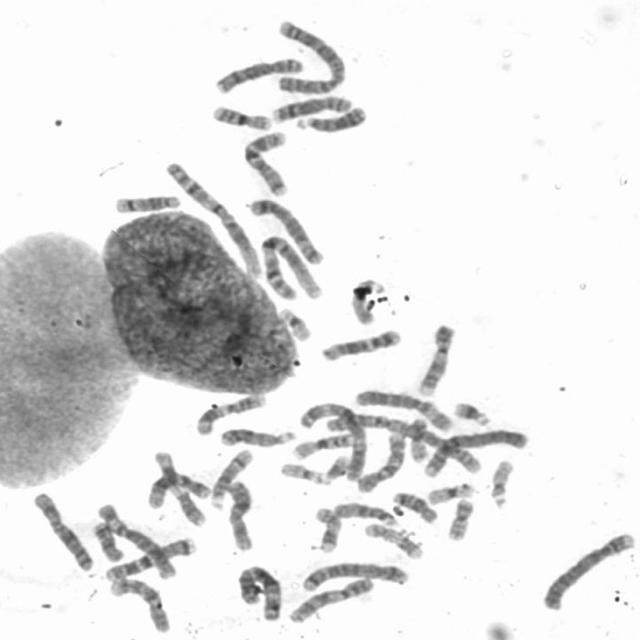A1: (160, 156, 264, 280), (256, 230, 326, 302)
A2: (316, 409, 487, 475), (270, 15, 348, 96)
A3: (294, 396, 369, 483), (233, 561, 284, 623)
B4: (538, 528, 638, 612), (418, 424, 532, 478)
B5: (245, 194, 328, 267), (298, 558, 412, 592)
C10: (105, 571, 175, 634), (353, 429, 408, 494)
C11: (148, 446, 207, 527), (191, 389, 269, 436)
C12: (316, 323, 405, 363), (144, 467, 213, 510)
C6: (91, 498, 180, 580), (352, 384, 456, 433)
C7: (98, 532, 198, 582), (238, 126, 290, 198)
C8: (210, 52, 306, 95), (268, 91, 355, 124)
C9: (284, 572, 376, 626), (413, 318, 459, 397)
D13: (292, 102, 370, 134), (216, 423, 298, 448)
D14: (206, 444, 256, 511), (109, 189, 184, 215)
D15: (330, 497, 400, 527), (348, 275, 386, 326)
E16: (289, 429, 356, 461), (208, 100, 274, 132)
E17: (360, 518, 426, 560), (311, 502, 344, 555)
E18: (388, 487, 440, 525), (88, 517, 128, 563)
F19: (275, 303, 314, 343), (424, 477, 477, 506)
F20: (443, 494, 477, 542), (406, 412, 430, 463)
G21: (449, 396, 494, 427), (317, 450, 350, 485)
G22: (486, 454, 517, 510), (276, 457, 332, 486)
X: (27, 488, 94, 572), (224, 475, 258, 552)
